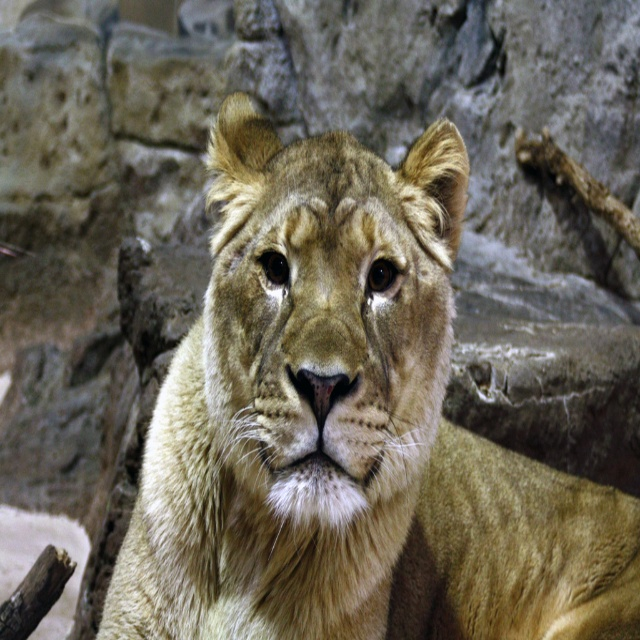Lion: (97, 90, 640, 639)
